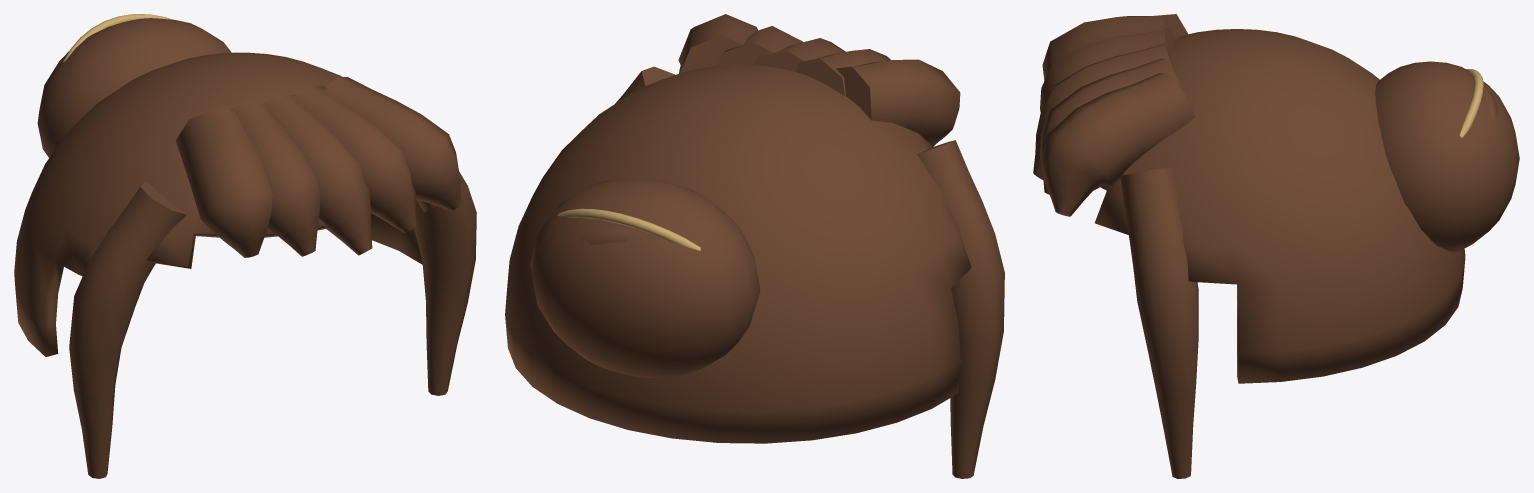
The model's file is hair_updo.glb.
The picture shows the model from 3 angles, left to right: view 1: azimuth 30°, elevation 25°; view 2: azimuth 150°, elevation 25°; view 3: azimuth 270°, elevation 25°; orthographic projection. The views are drawn at different scales.
Parts seen in each view (by area): view 1: lock; view 2: lock; view 3: lock.
Part boxes in pixels (left/top/right/bottom): lock: left=14, top=14, right=476, bottom=478; lock: left=505, top=14, right=1004, bottom=478; lock: left=1033, top=14, right=1519, bottom=478.
Bounding box in the file's own units: 2.34 × 1.94 × 2.46.
